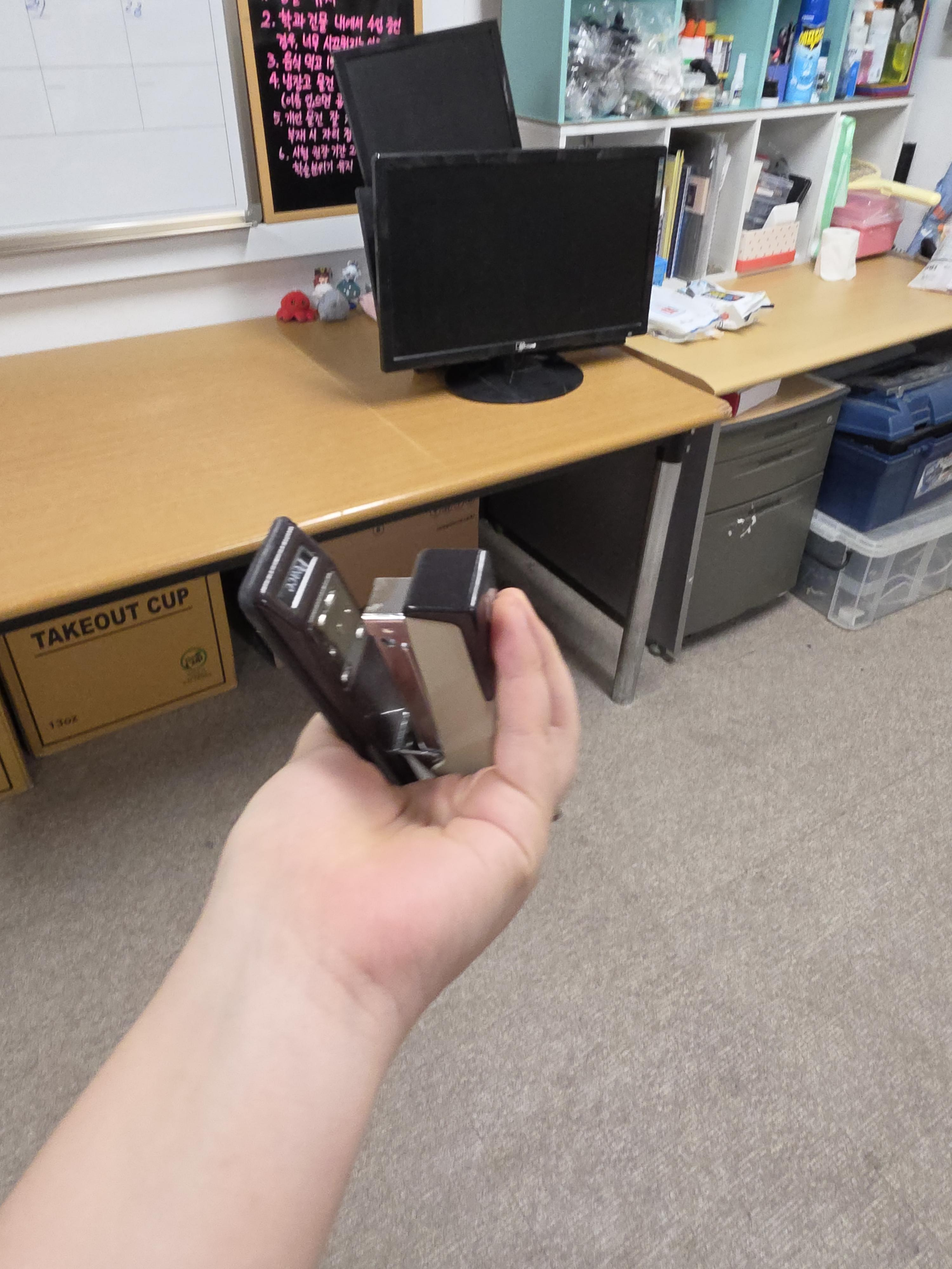stapler: (236, 516, 499, 785)
tissue: (736, 201, 801, 275), (813, 226, 859, 283)
